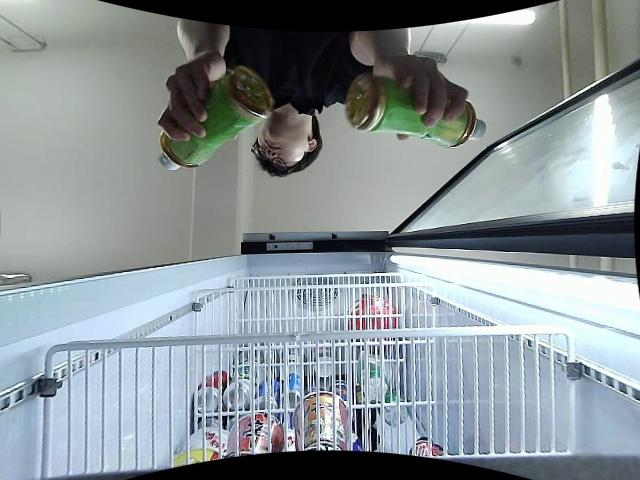00_hand: (374, 53, 468, 141), (157, 52, 228, 143)
19_17cha: (154, 67, 272, 176), (346, 73, 489, 152)
